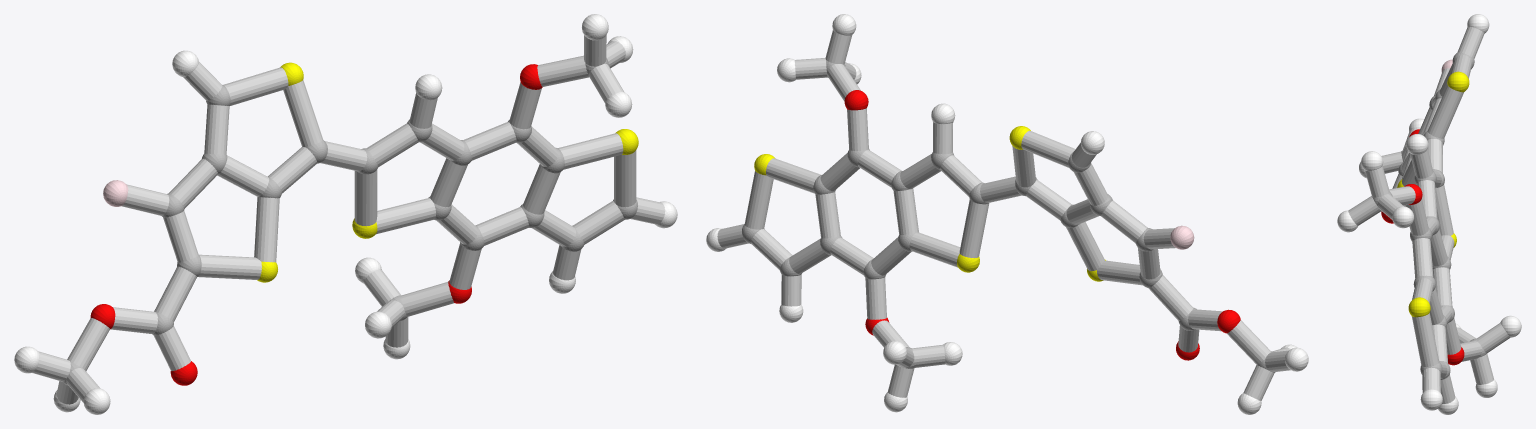
Rendered from Dimethoxy_Benzodithiophene_Phi_15_Theta_30_Methylcarbonyl_3_Fluoro_Thienothiophene.glb.
3 renders of one model, left to right at view 1: azimuth 30°, elevation 25°; view 2: azimuth 150°, elevation 25°; view 3: azimuth 270°, elevation 25°, orthographic. The views are drawn at different scales.
Parts seen in each view (by area): view 1: grp15205, grp8689, grp1, grp13395, grp7241; view 2: grp15205, grp8689, grp1, grp13395, grp7241; view 3: grp15205, grp8689, grp1, grp7241, grp13395.
Boxes of the visible parts, x1,y1,x2,y2 form: grp15205: [32, 35, 665, 404]; grp8689: [14, 14, 677, 414]; grp1: [63, 58, 637, 385]; grp13395: [90, 64, 542, 385]; grp7241: [257, 62, 638, 282]; grp15205: [717, 30, 1290, 400]; grp8689: [706, 14, 1308, 414]; grp1: [742, 60, 1275, 372]; grp13395: [844, 90, 1240, 360]; grp7241: [754, 126, 1105, 281]; grp15205: [1348, 26, 1510, 403]; grp8689: [1337, 14, 1521, 414]; grp1: [1372, 52, 1486, 379]; grp7241: [1397, 71, 1469, 317]; grp13395: [1381, 129, 1464, 365].
Size of the model in its own units: 17.07 by 8.88 by 5.01.
